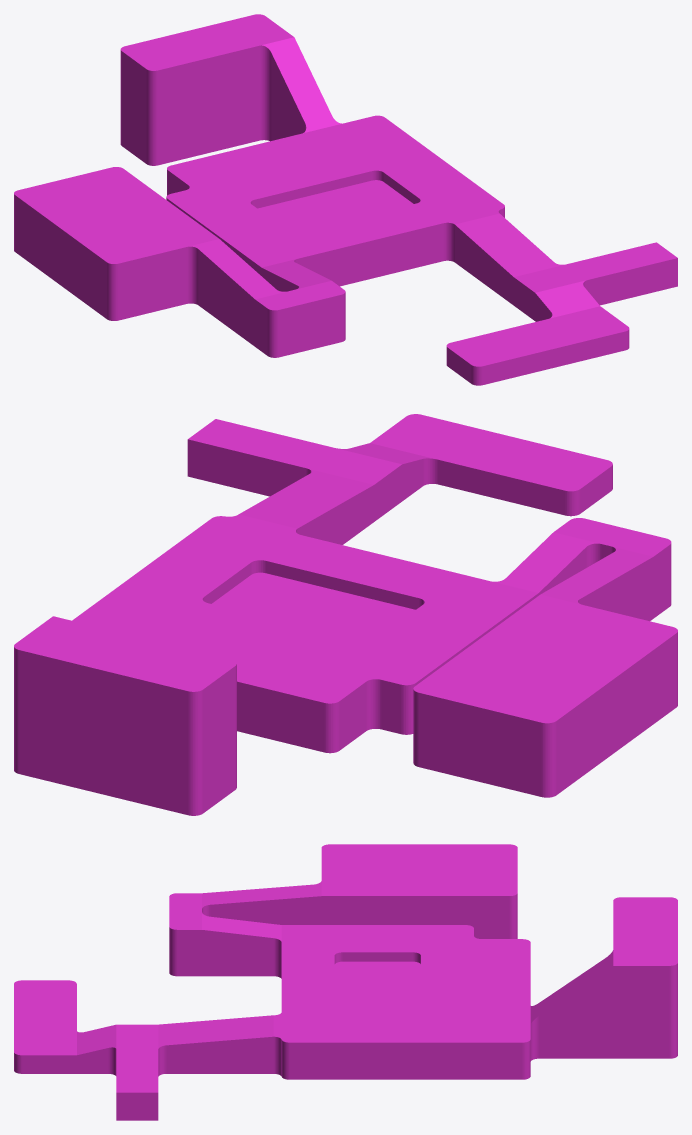
Rendered from CuevaB6.fbx.
3 views of the same model, one above another, from view 1: azimuth 30°, elevation 25°; view 2: azimuth 150°, elevation 25°; view 3: azimuth 270°, elevation 25° (orthographic). The views are drawn at different scales.
Parts seen in each view (by area): view 1: Cube.001; view 2: Cube.001; view 3: Cube.001.
Part boxes in pixels (bbox=[...]): Cube.001: bbox=[14, 14, 677, 385]; Cube.001: bbox=[14, 414, 677, 815]; Cube.001: bbox=[14, 844, 677, 1120].
Size of the model in its own units: 0.08 by 0.1018 by 0.0157.
